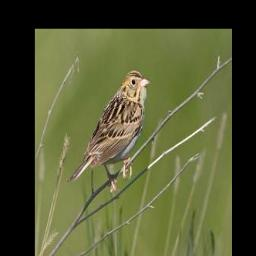Sparrow: (67, 69, 151, 194)
